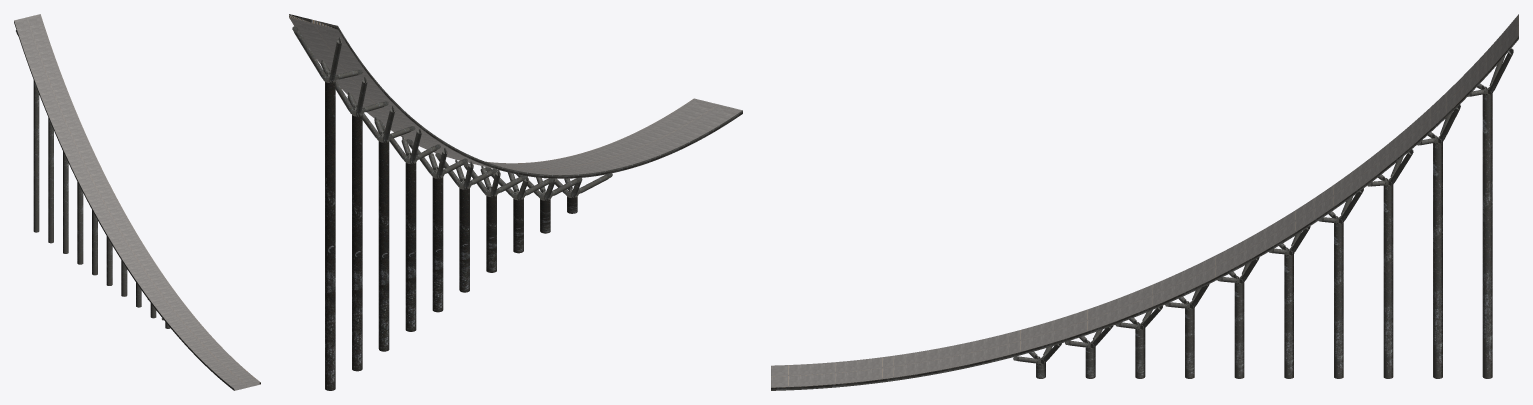
Rendered from ramp_massive.dae.
3 renders of one model, left to right at view 1: azimuth 30°, elevation 25°; view 2: azimuth 150°, elevation 25°; view 3: azimuth 270°, elevation 25°, orthographic. The views are drawn at different scales.
Visible parts, largest first — view 1: Colmesh-1; view 2: Colmesh-1, ramp_massive; view 3: Colmesh-1, ramp_massive.
Boxes of the visible parts, x1=… form: Colmesh-1: x1=14, y1=14, x2=260, y2=390; Colmesh-1: x1=289, y1=17, x2=742, y2=390; ramp_massive: x1=289, y1=14, x2=612, y2=200; Colmesh-1: x1=771, y1=14, x2=1518, y2=390; ramp_massive: x1=1013, y1=48, x2=1513, y2=364.
Size of the model in its own units: 11.18 by 151 by 78.88.
1 material, 1 textured.
